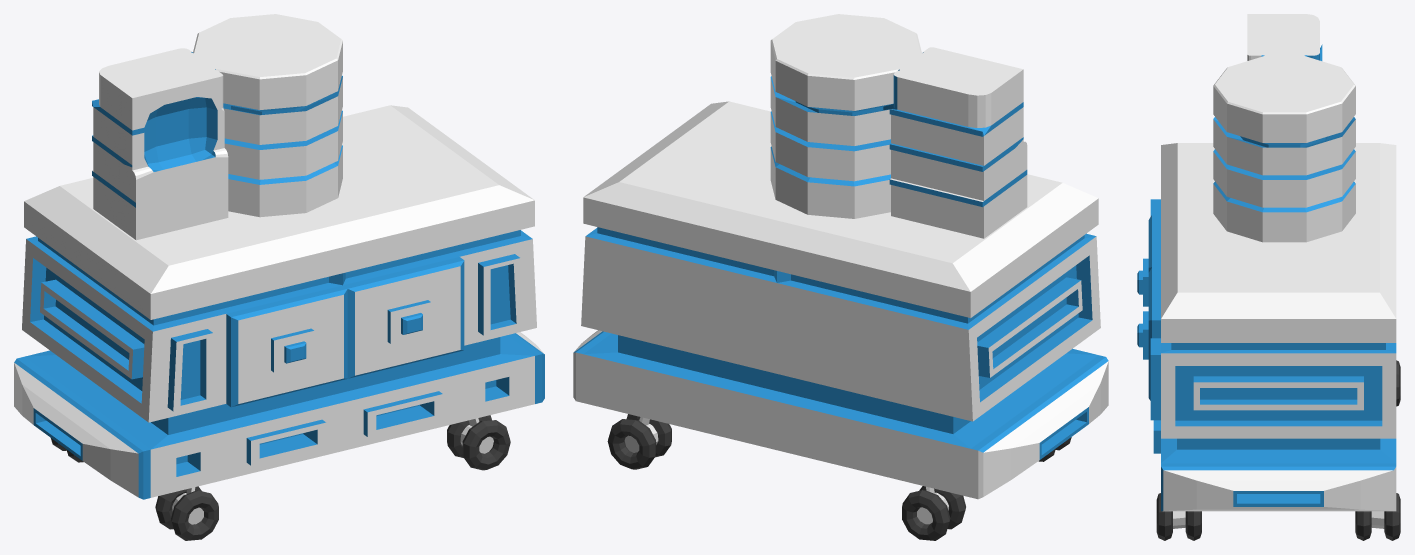
Rendered from medCab Wagon.fbx.
The picture shows the model from 3 angles, left to right: view 1: azimuth 30°, elevation 25°; view 2: azimuth 150°, elevation 25°; view 3: azimuth 270°, elevation 25°; orthographic projection. The views are drawn at different scales.
Visible parts, largest first — view 1: Cube.002; view 2: Cube.002; view 3: Cube.002.
Boxes of the visible parts, x1,y1,x2,y2 form: Cube.002: (14,14,544,540); Cube.002: (573,14,1108,540); Cube.002: (1137,14,1400,540).
Bounding box in the file's own units: 500 × 447 × 278.
